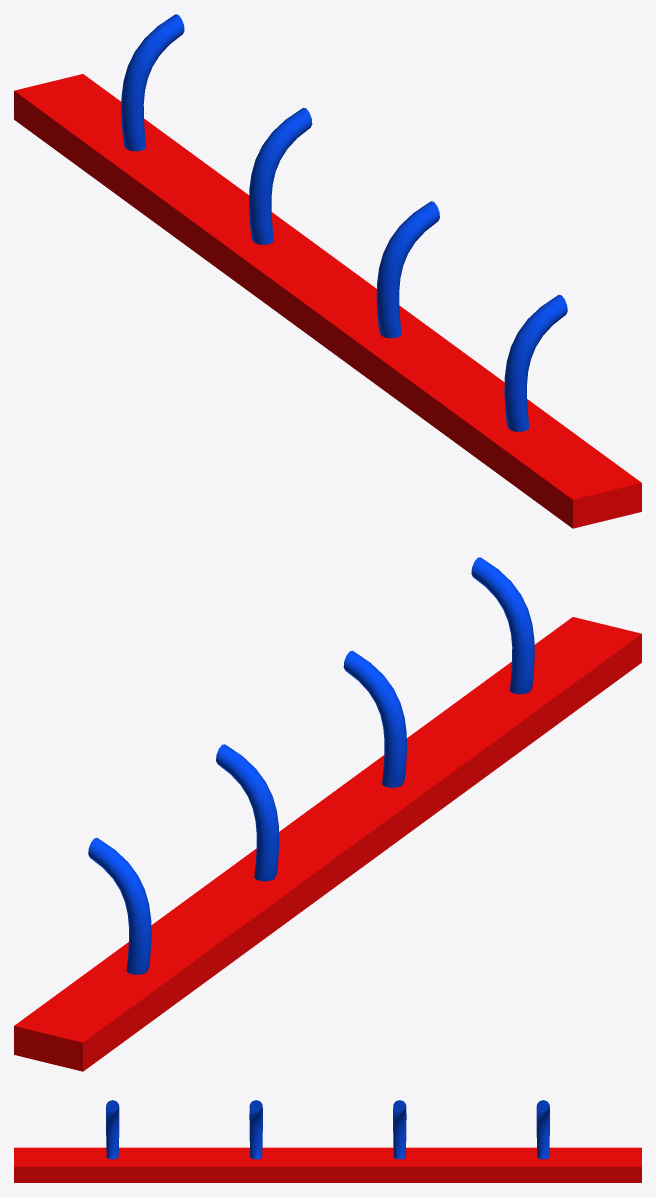
Rendered from StoveHanger.FBX.
3 renders of one model, top to bottom at view 1: azimuth 30°, elevation 25°; view 2: azimuth 150°, elevation 25°; view 3: azimuth 270°, elevation 25°, orthographic. The views are drawn at different scales.
Parts seen in each view (by area): view 1: StoveHanger; view 2: StoveHanger; view 3: StoveHanger.
Boxes of the visible parts, left/top/right/bottom form: StoveHanger: left=14, top=14, right=641, bottom=528; StoveHanger: left=14, top=557, right=641, bottom=1071; StoveHanger: left=14, top=1100, right=641, bottom=1182.
Bounding box in the file's own units: 5.65 × 10.4 × 70.
